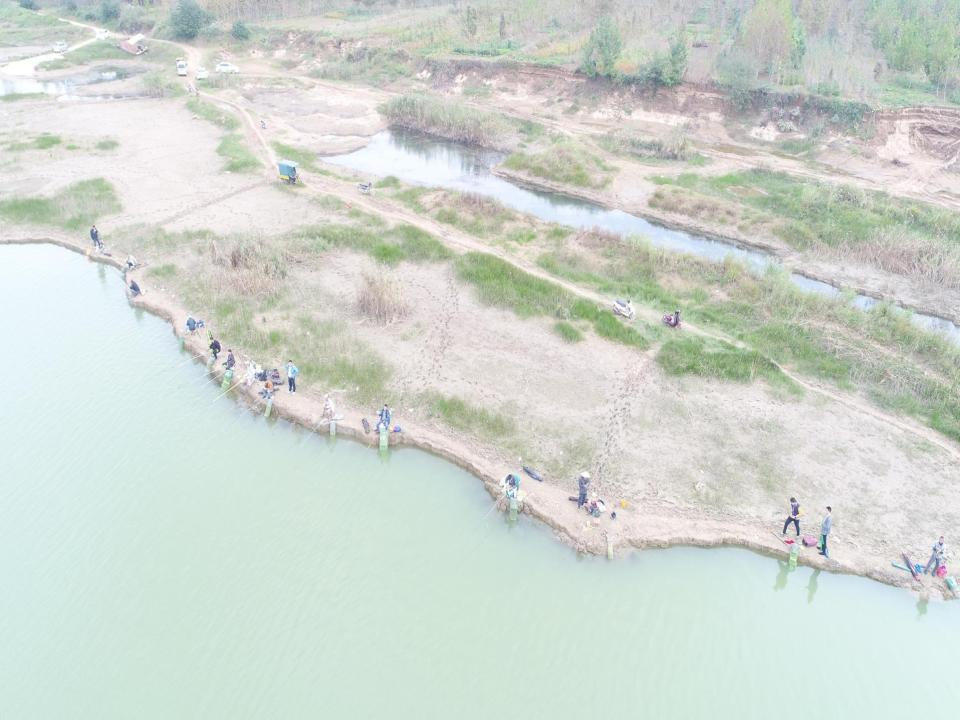car: (214, 62, 240, 74), (194, 65, 209, 82), (95, 27, 110, 41), (52, 41, 69, 53)
van: (177, 59, 189, 77)
